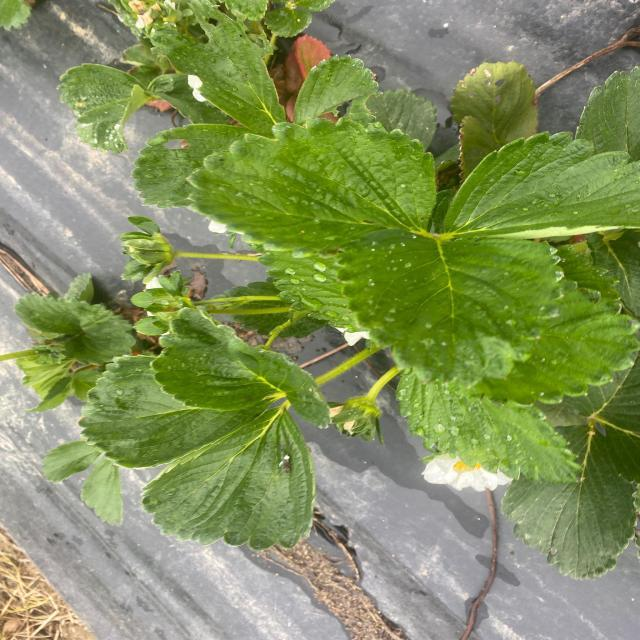flower: (414, 437, 528, 499)
